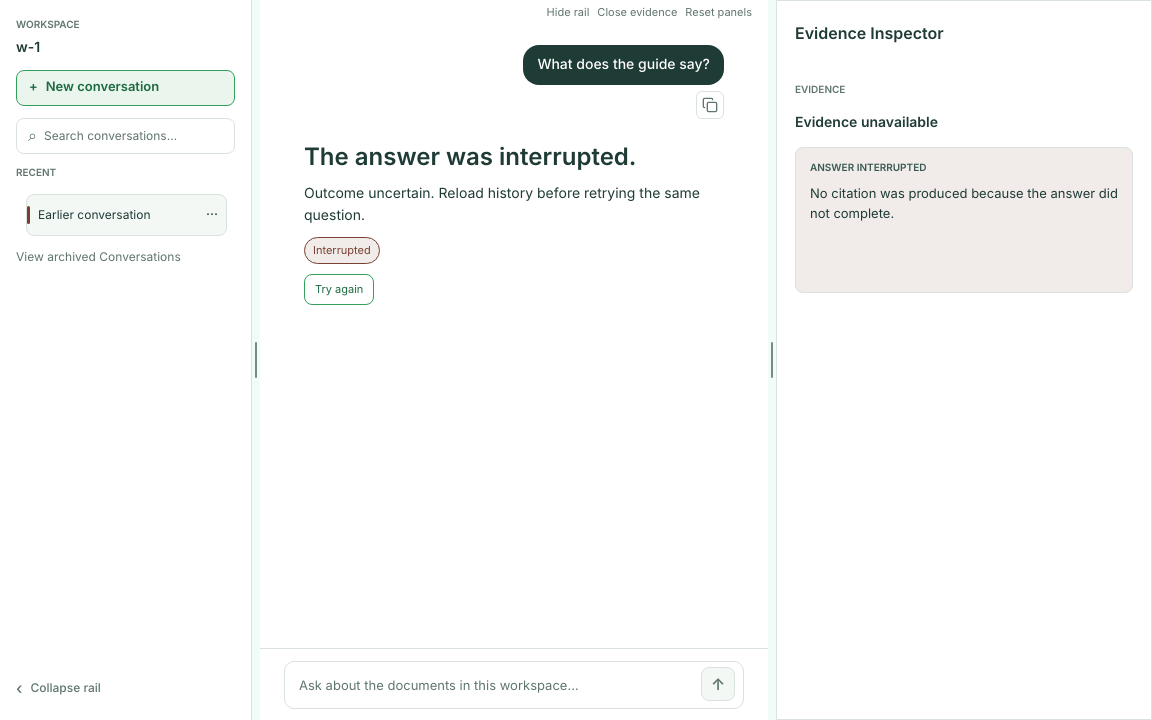
Test: durable Conversation view › checks authoritative queued history before restoring an interrupted question without posting
Expected: the button "Try again" is shown, [304,274,374,305]
In the text box named "Question": {"x": 496, "y": 686} [299,664,693,708], type "Keep my other draft"
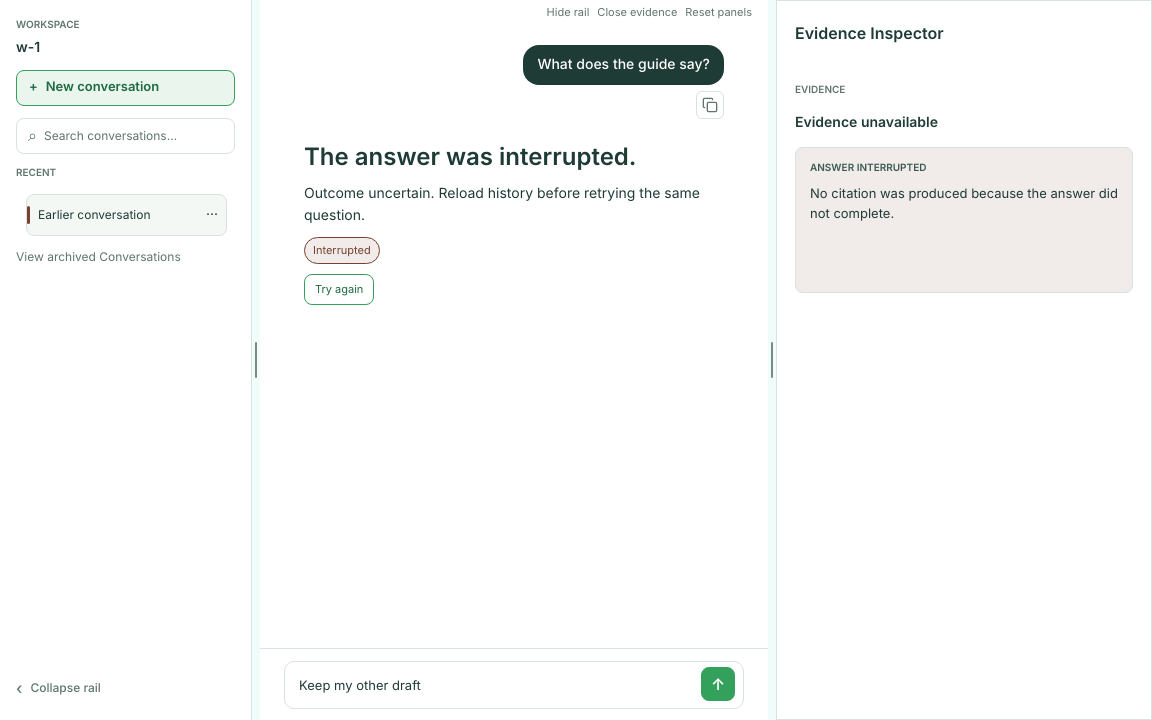
Click the button "Try again": {"x": 339, "y": 290} [304,274,374,305]
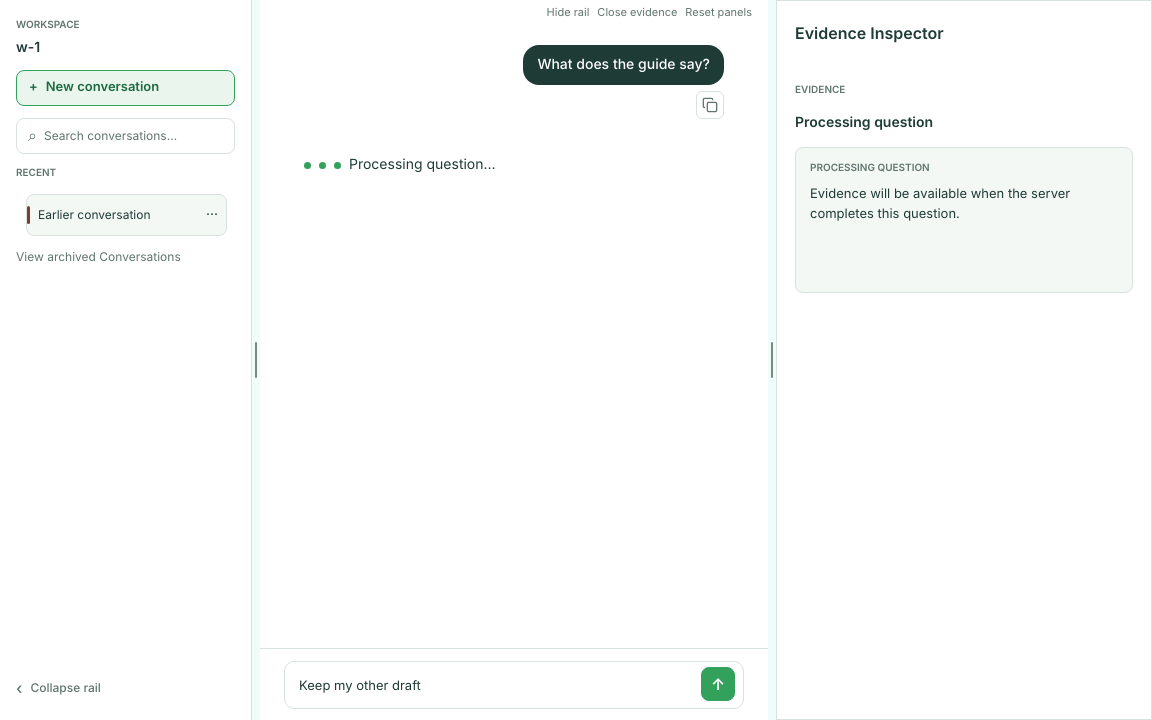
Now the button "Try again" is gone
